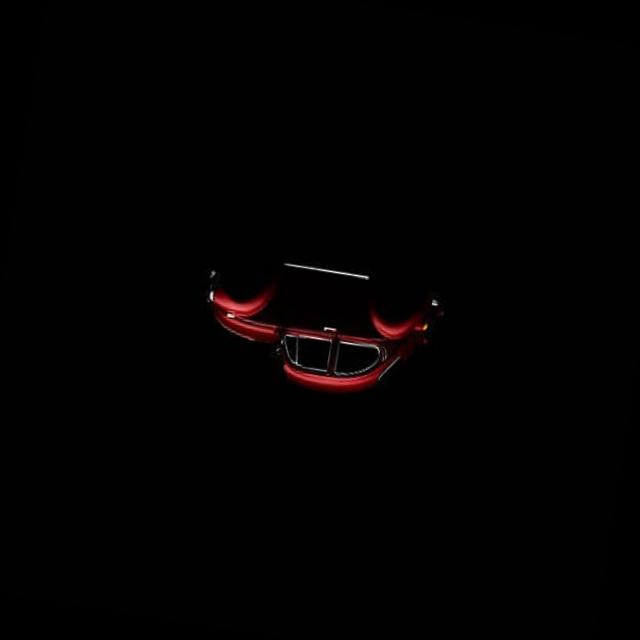car: (200, 228, 453, 402)
